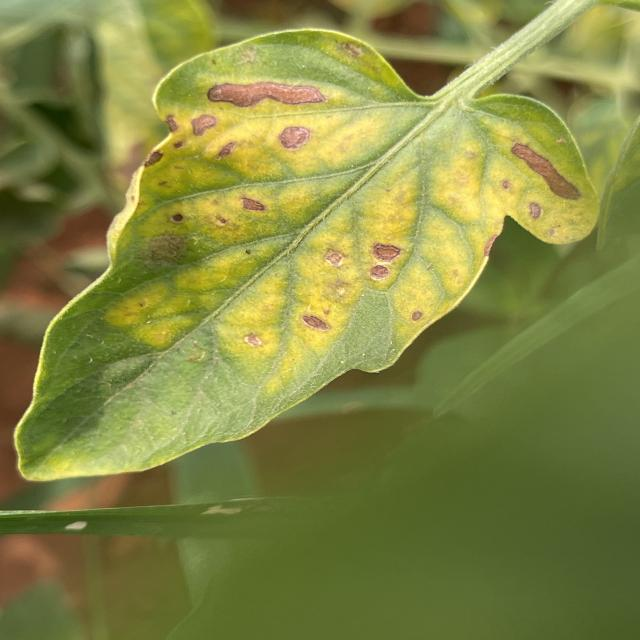tomato_early blight: (14, 29, 599, 481)
